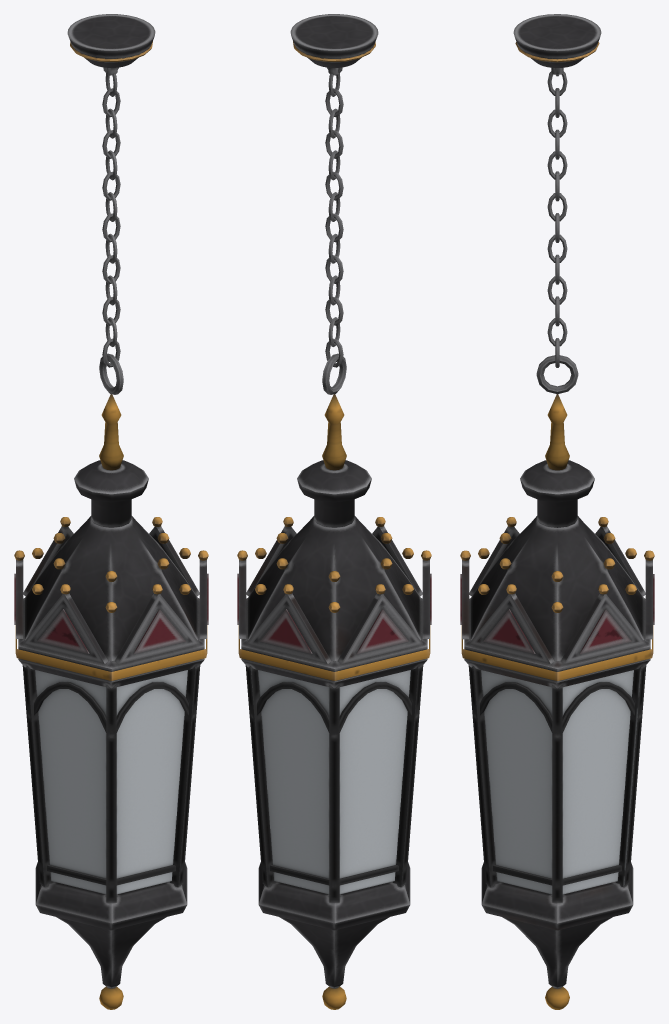
The model's file is HangingLantern.fbx.
The picture shows the model from 3 angles, left to right: view 1: azimuth 30°, elevation 25°; view 2: azimuth 150°, elevation 25°; view 3: azimuth 270°, elevation 25°; orthographic projection.
Visible parts, largest first — view 1: HangingLantern_Main, HangingLantern_Glass; view 2: HangingLantern_Main, HangingLantern_Glass; view 3: HangingLantern_Main, HangingLantern_Glass.
Part boxes in pixels (<box>): HangingLantern_Main: <box>14,14,208,1009</box>; HangingLantern_Glass: <box>35,670,187,894</box>; HangingLantern_Main: <box>237,14,431,1009</box>; HangingLantern_Glass: <box>258,670,410,894</box>; HangingLantern_Main: <box>460,14,654,1009</box>; HangingLantern_Glass: <box>481,670,633,894</box>.
Size of the model in its own units: 111 by 539 by 97.35.
